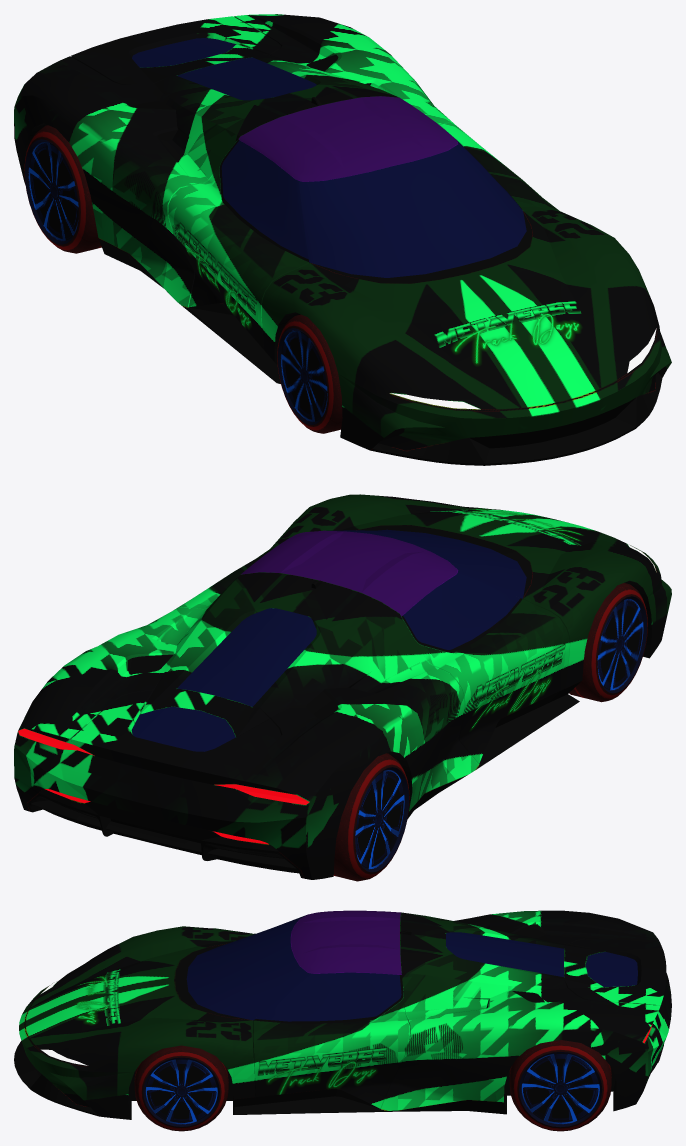
File: car1.glb
3 views of the same model, one above another, from view 1: azimuth 30°, elevation 25°; view 2: azimuth 150°, elevation 25°; view 3: azimuth 270°, elevation 25° (orthographic). The views are drawn at different scales.
Parts seen in each view (by area): view 1: Car 01_Exterior Body.001, Car 01_Windshield, Car_01_Door Right, Car 01_Exterior_Roof, Car 01_Wheel_RR, Car 01_Wheel_FR, Car 01_Exterior_Rear Windows, Car_01_Door Left, Car 01_Exterior Front Lights; view 2: Car 01_Exterior Body.001, Car_01_Door Right, Car 01_Exterior_Rear Windows, Car 01_Exterior_Roof, Car 01_Wheel_RR, Car 01_Wheel_FR, Car 01_Windshield, Car 01_Exterior Tail Lights, Car_01_Door Left; view 3: Car 01_Exterior Body.001, Car_01_Door Left, Car 01_Windshield, Car 01_Wheel_RL, Car 01_Exterior_Roof, Car 01_Wheel_FL, Car 01_Exterior_Rear Windows.
Boxes of the visible parts, x1,y1,x2,y2 form: Car 01_Exterior Body.001: (14, 14, 671, 465); Car 01_Windshield: (298, 142, 526, 277); Car_01_Door Right: (168, 139, 309, 349); Car 01_Exterior_Roof: (238, 96, 457, 181); Car 01_Wheel_RR: (24, 125, 101, 253); Car 01_Wheel_FR: (277, 314, 342, 433); Car 01_Exterior_Rear Windows: (132, 38, 316, 100); Car_01_Door Left: (439, 122, 559, 210); Car 01_Exterior Front Lights: (390, 328, 656, 409); Car 01_Exterior Body.001: (14, 494, 671, 879); Car_01_Door Right: (401, 572, 569, 763); Car 01_Exterior_Rear Windows: (131, 608, 316, 751); Car 01_Exterior_Roof: (241, 530, 458, 616); Car 01_Wheel_RR: (333, 753, 409, 881); Car 01_Wheel_FR: (569, 583, 647, 702); Car 01_Windshield: (326, 529, 526, 598); Car 01_Exterior Tail Lights: (18, 728, 309, 844); Car_01_Door Left: (174, 547, 275, 609); Car 01_Exterior Body.001: (14, 910, 671, 1119); Car_01_Door Left: (253, 972, 409, 1108); Car 01_Windshield: (186, 915, 310, 1020); Car 01_Wheel_RL: (509, 1040, 611, 1131); Car 01_Exterior_Roof: (290, 910, 401, 974); Car 01_Wheel_FL: (134, 1045, 228, 1131); Car 01_Exterior_Rear Windows: (446, 932, 637, 987).
Size of what is drawn, in the model's own units: 3.24 by 1.75 by 7.25.
11 materials, 7 textured.
